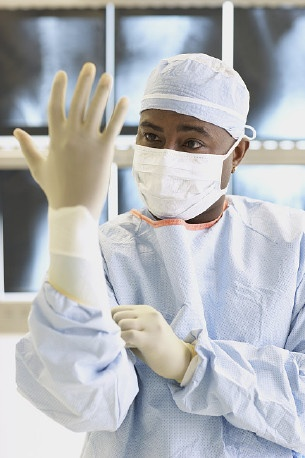Mask: (132, 117, 233, 217)
